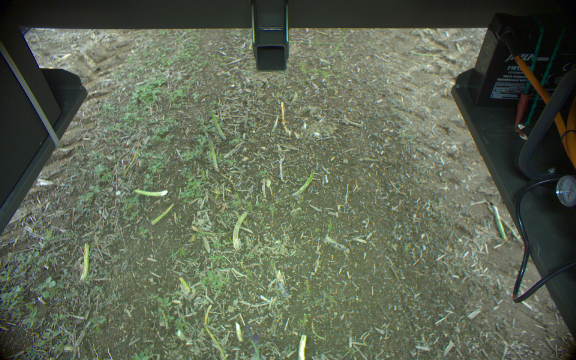aspa: (205, 102, 229, 141), (228, 210, 250, 250), (78, 239, 96, 283), (293, 168, 319, 196), (150, 201, 179, 225), (242, 327, 263, 360), (205, 135, 220, 173), (489, 206, 506, 239), (132, 186, 172, 200), (295, 330, 308, 360), (176, 276, 191, 294)
